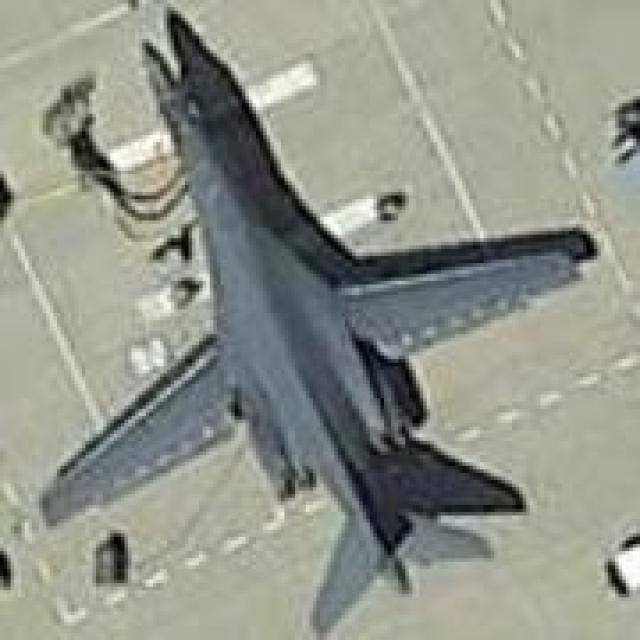B-1_TopDown: (35, 0, 597, 636)
